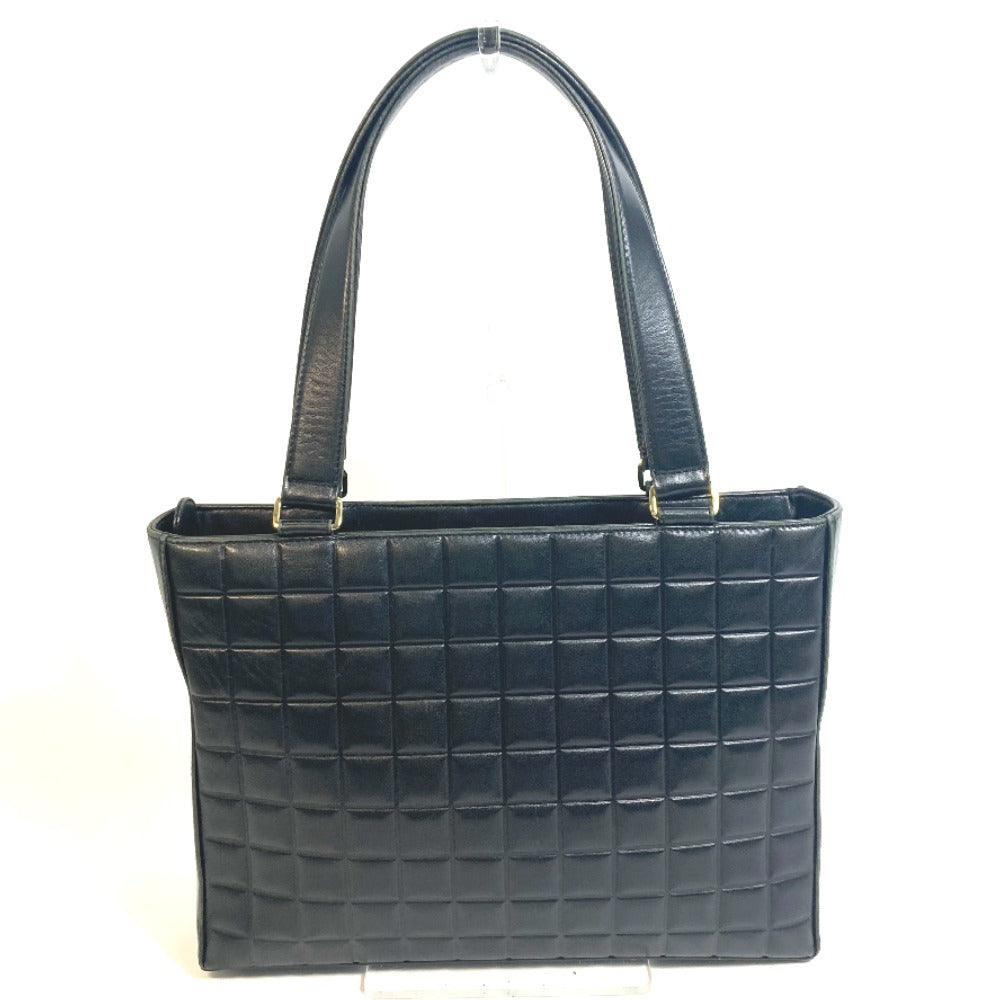channel: (140, 458, 902, 990), (510, 618, 743, 929)
